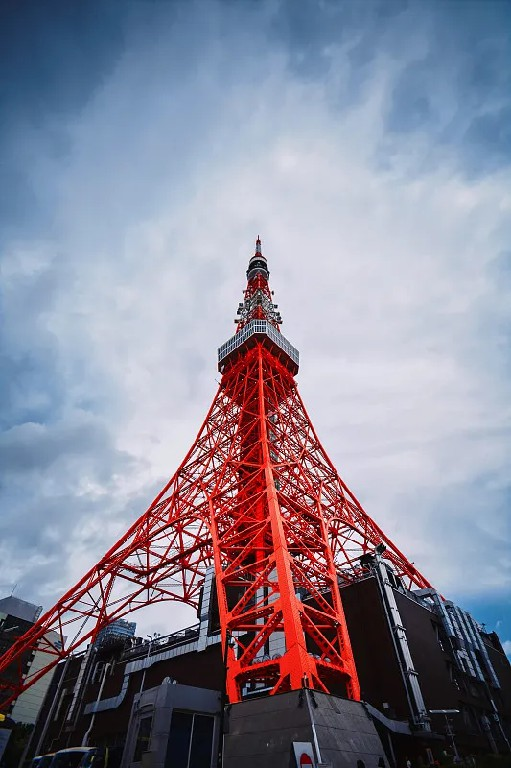Tokyo: (1, 224, 449, 718)
